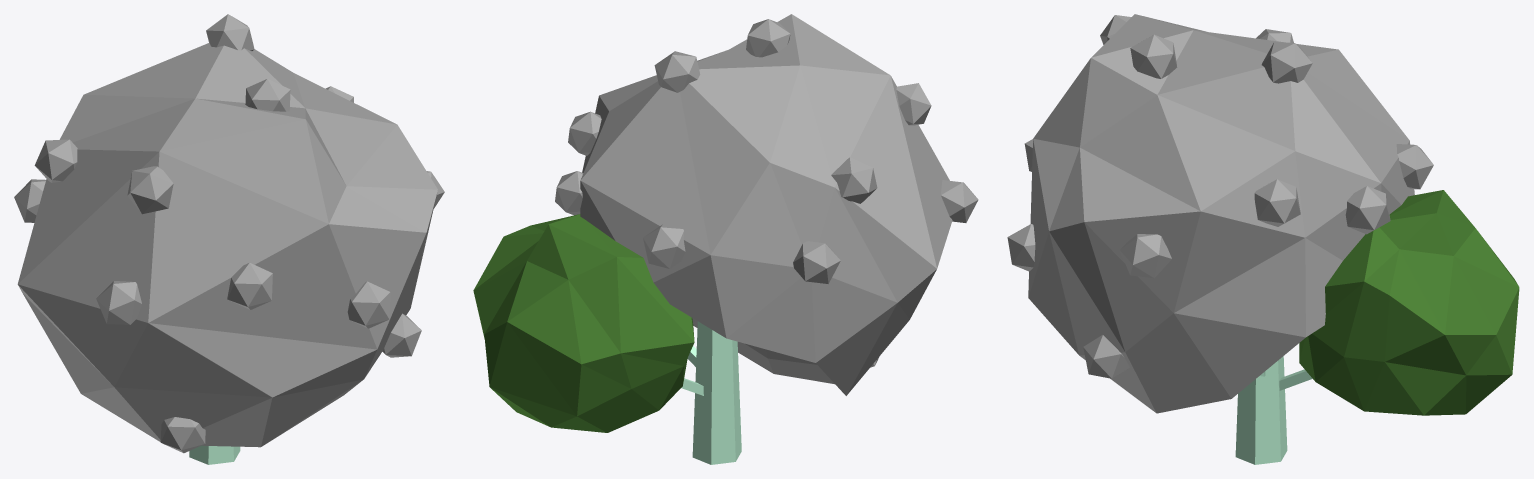
Rendered from Bush_With_Berries_02.fbx.
3 views of the same model, side by side, from view 1: azimuth 30°, elevation 25°; view 2: azimuth 150°, elevation 25°; view 3: azimuth 270°, elevation 25° (orthographic). The views are drawn at different scales.
Visible parts, largest first — view 1: Bush_With_Berries_02; view 2: Bush_With_Berries_02; view 3: Bush_With_Berries_02.
Part boxes in pixels (left/top/right/bottom): Bush_With_Berries_02: left=14, top=14, right=444, bottom=464; Bush_With_Berries_02: left=473, top=14, right=978, bottom=464; Bush_With_Berries_02: left=1007, top=14, right=1519, bottom=464.
Bounding box in the file's own units: 154 × 163 × 177.
